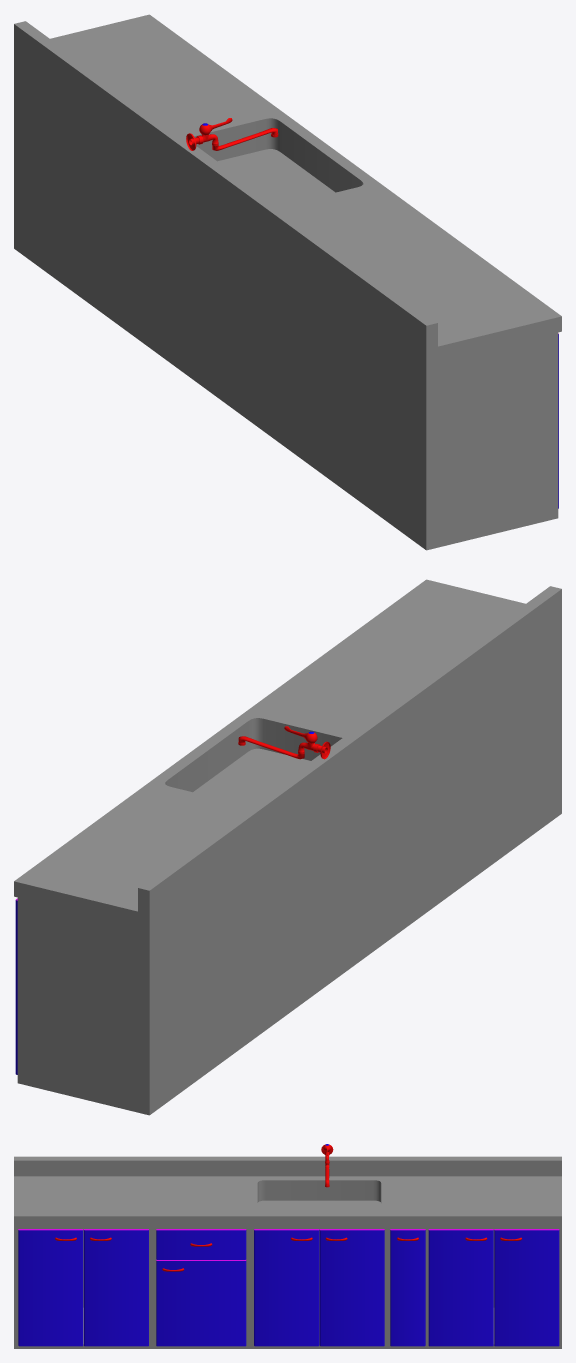
File: kitchen_counter.FBX
The picture shows the model from 3 angles, top to bottom: view 1: azimuth 30°, elevation 25°; view 2: azimuth 150°, elevation 25°; view 3: azimuth 270°, elevation 25°; orthographic projection. The views are drawn at different scales.
Parts seen in each view (by area): view 1: metal_table, faucet; view 2: metal_table, faucet; view 3: cabinet_door, metal_table.
Boxes of the visible parts, x1=… form: metal_table: x1=14, y1=14, x2=561, y2=550; faucet: x1=186, y1=118, x2=278, y2=150; metal_table: x1=14, y1=579, x2=561, y2=1115; faucet: x1=238, y1=726, x2=330, y2=759; cabinet_door: x1=18, y1=1229, x2=559, y2=1346; metal_table: x1=14, y1=1156, x2=561, y2=1348.
Bounding box in the file's own units: 0.6258 × 3.16 × 1.06.
